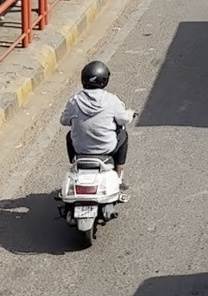BikeWithRider: (53, 59, 139, 249)
Helmet: (79, 59, 113, 94)
